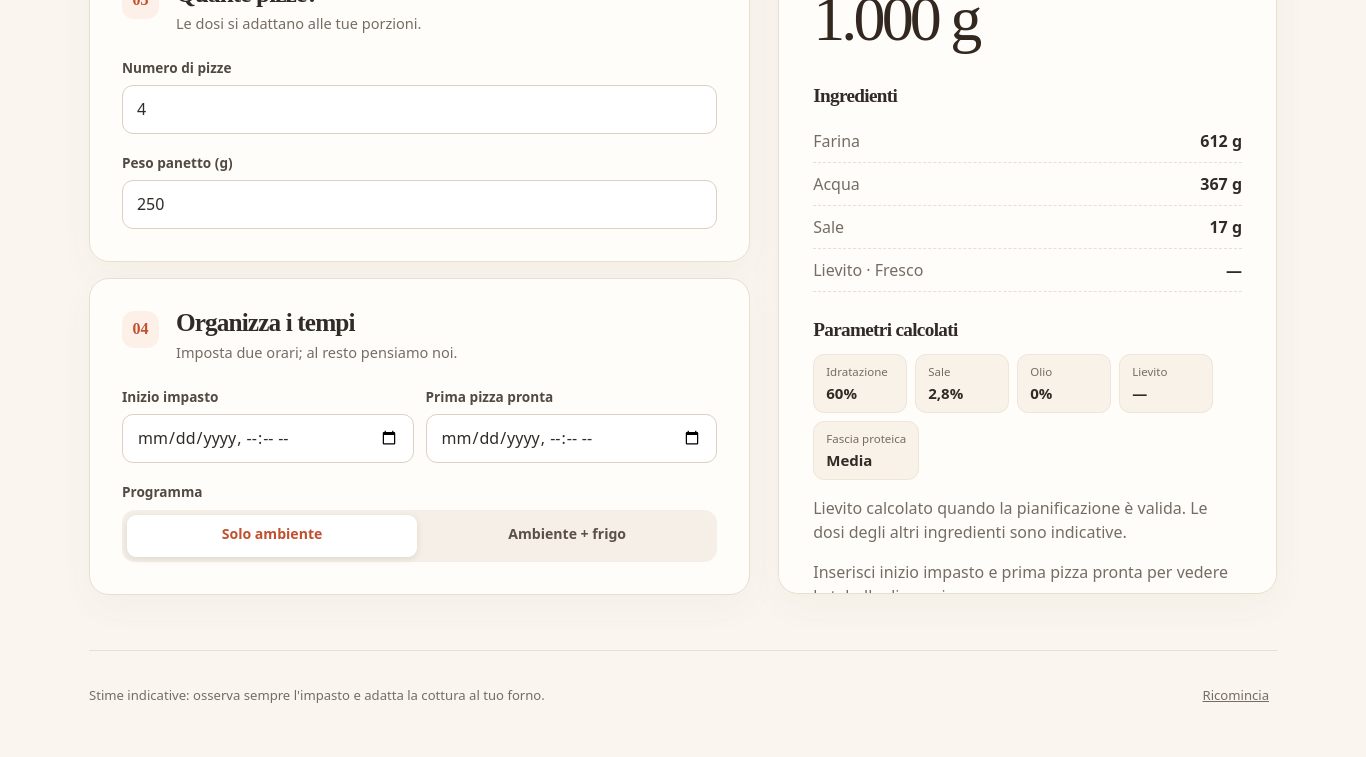
pizza calculator › does not reset the form when confirmation is cancelled
(page scrolled)
Type "2026-06-15T09:00" into the field labelled "Inizio impasto". click: x=268, y=438
box: [122,414,414,463]
(page scrolled)
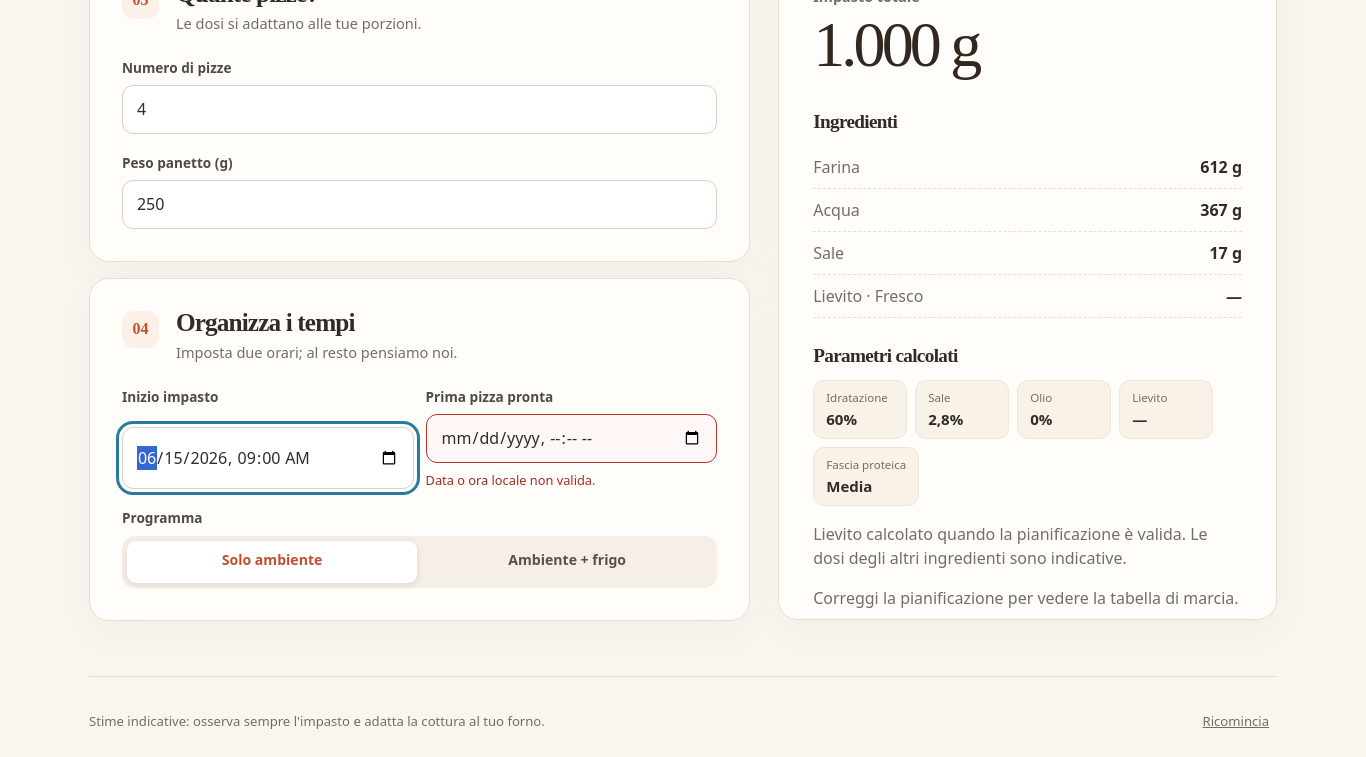
Type "2026-06-15T19:00" into the field labelled "Prima pizza pronta". click: x=571, y=438
box: [426,414,717,463]
(page scrolled)
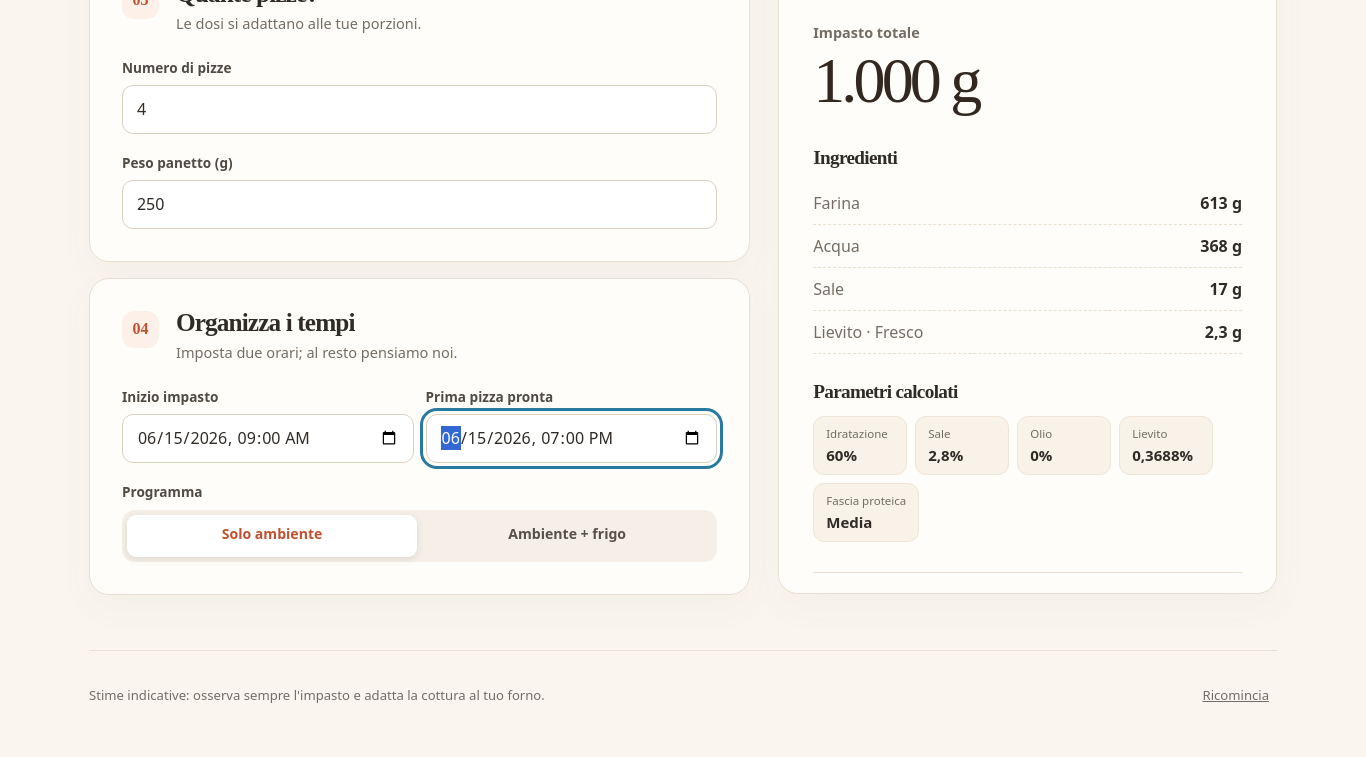
Click the button "Ricomincia". click: x=1236, y=695
box: [1194,678,1277,712]
(page scrolled)
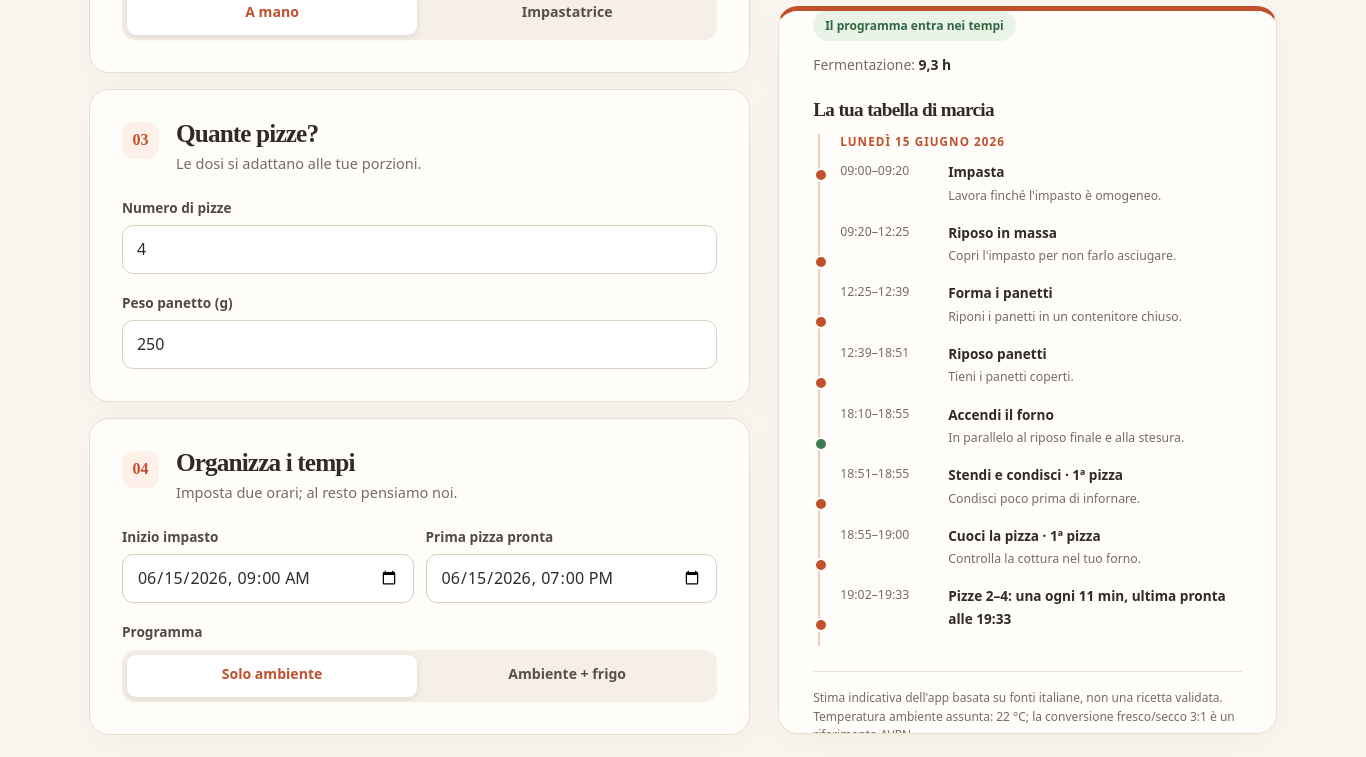
Expected: the element with class "timeline" is shown, [813,100,1242,647]
